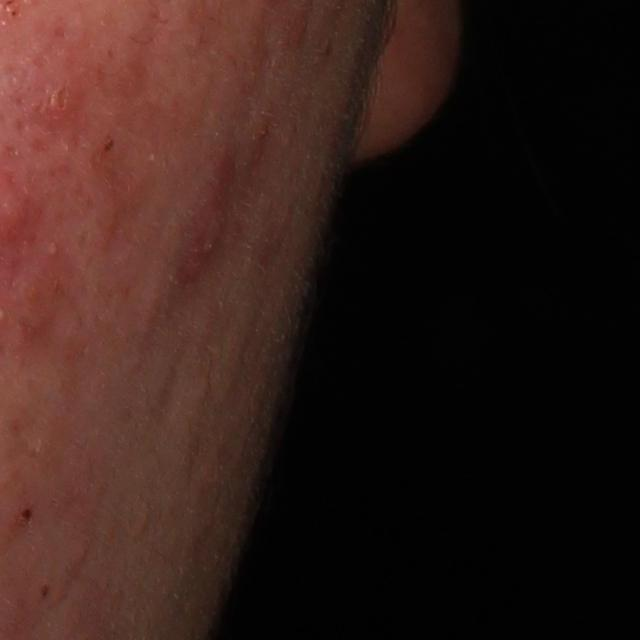nevus: (39, 582, 53, 600)
nodule: (161, 122, 253, 307)
papule: (40, 78, 81, 123)
